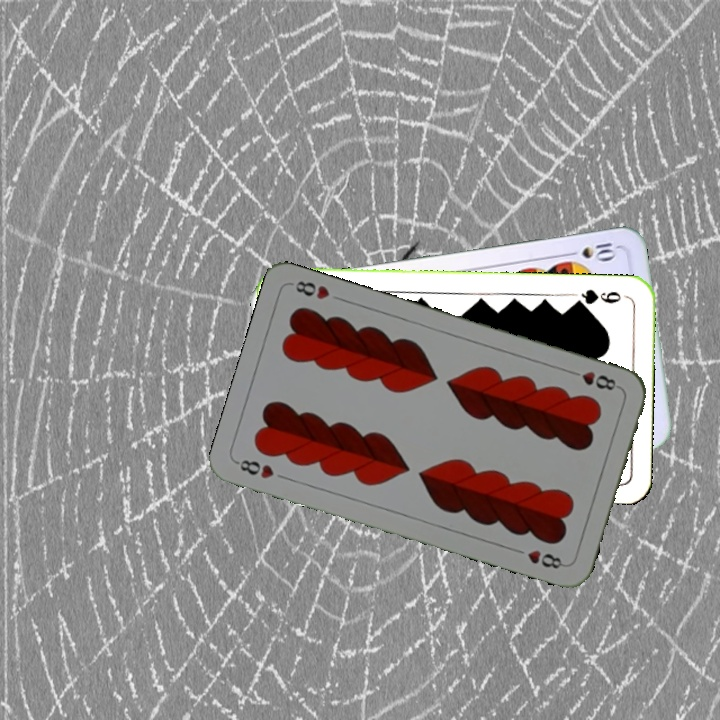G9: (570, 285, 630, 308)
H8: (565, 366, 622, 394), (232, 455, 277, 482)
S10: (561, 238, 620, 263)
